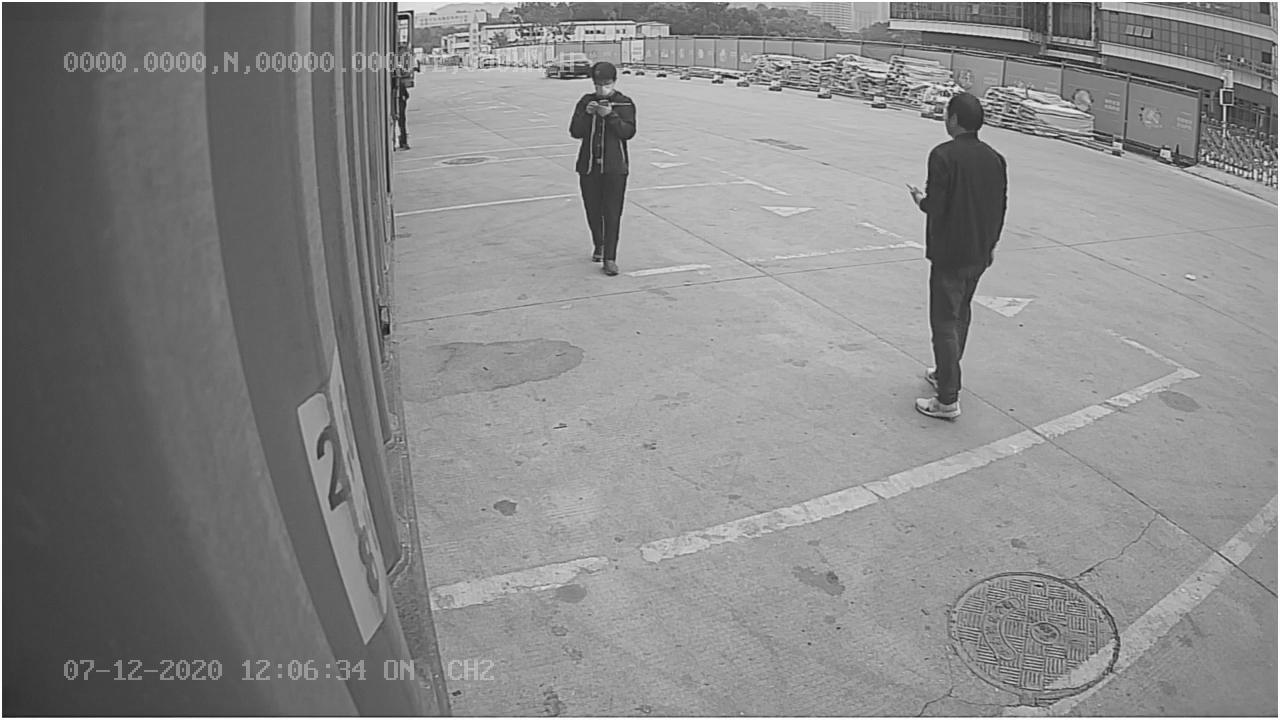person: (903, 87, 1007, 425)
